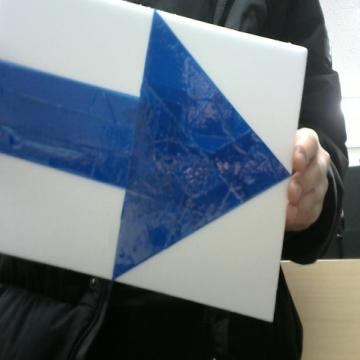blue_right: (0, 12, 289, 278)
